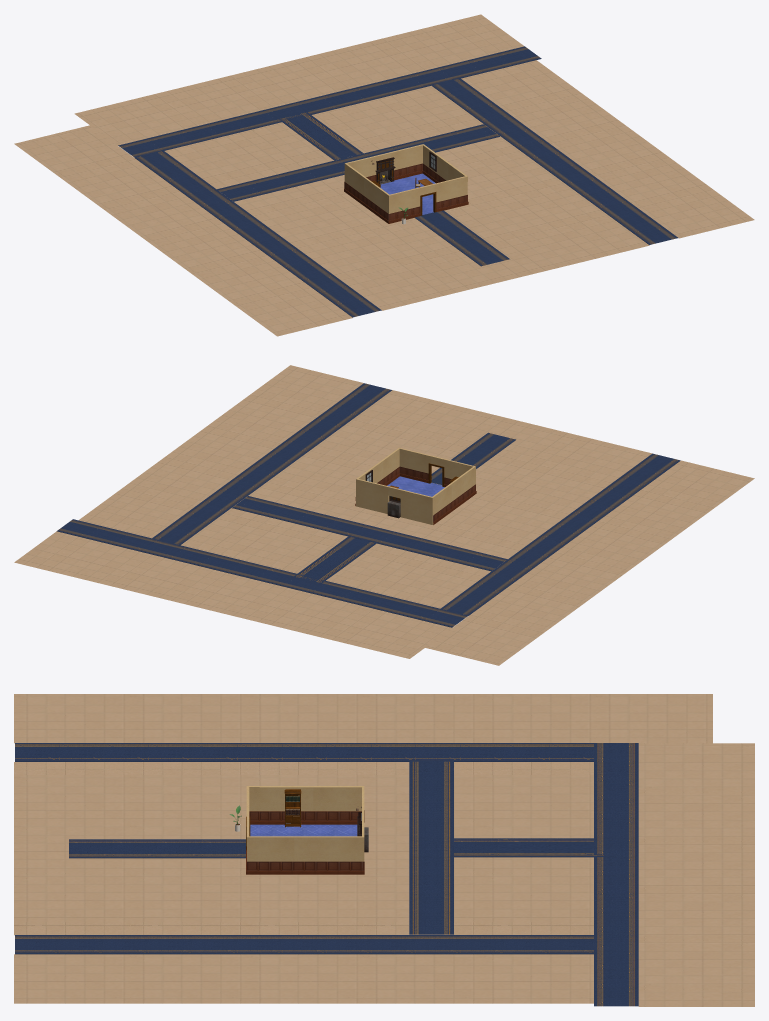
File: Total Env.fbx
3 views of the same model, one above another, from view 1: azimuth 30°, elevation 25°; view 2: azimuth 150°, elevation 25°; view 3: azimuth 270°, elevation 25° (orthographic). The views are drawn at different scales.
Visible parts, largest first — view 1: Outer Floor, Carpet, Library Room, Library Floor; view 2: Outer Floor, Carpet, Library Room, Library Floor; view 3: Outer Floor, Carpet, Library Room, Library Floor.
Part boxes in pixels (bbox=[...]): Outer Floor: bbox=[14, 14, 754, 336]; Carpet: bbox=[118, 46, 677, 317]; Library Room: bbox=[344, 144, 468, 223]; Library Floor: bbox=[380, 173, 435, 214]; Outer Floor: bbox=[14, 365, 754, 665]; Carpet: bbox=[57, 383, 680, 627]; Library Room: bbox=[355, 447, 476, 524]; Library Floor: bbox=[387, 476, 444, 496]; Outer Floor: bbox=[14, 694, 754, 1006]; Carpet: bbox=[15, 743, 638, 1006]; Library Room: bbox=[246, 786, 368, 874]; Library Floor: bbox=[250, 824, 357, 836].
Bounding box in the file's own units: 52.54 × 2.93 × 52.59.
